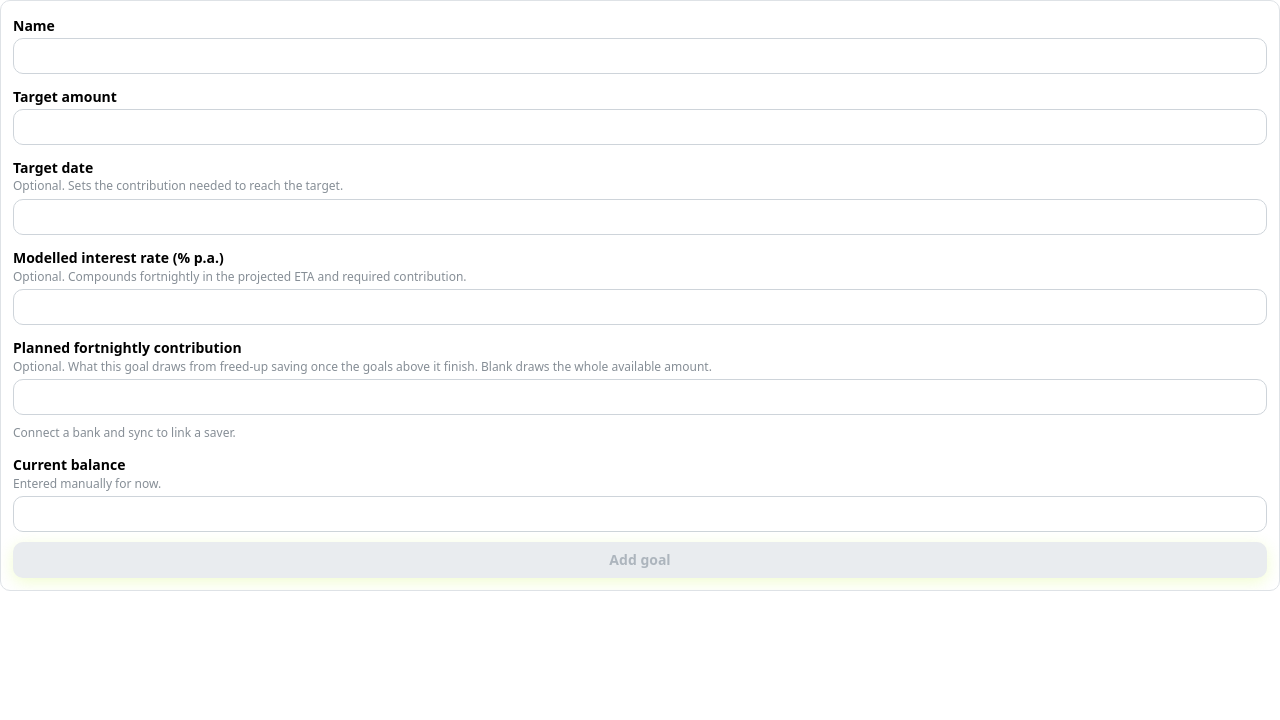
Test: GoalForm › surfaces an error and re-enables submit when saving fails
The width and height of the screenshot is (1280, 720).
Type "Emergency fund" into the field labelled "Name" at (640, 56), box 13,38 -> 1267,74
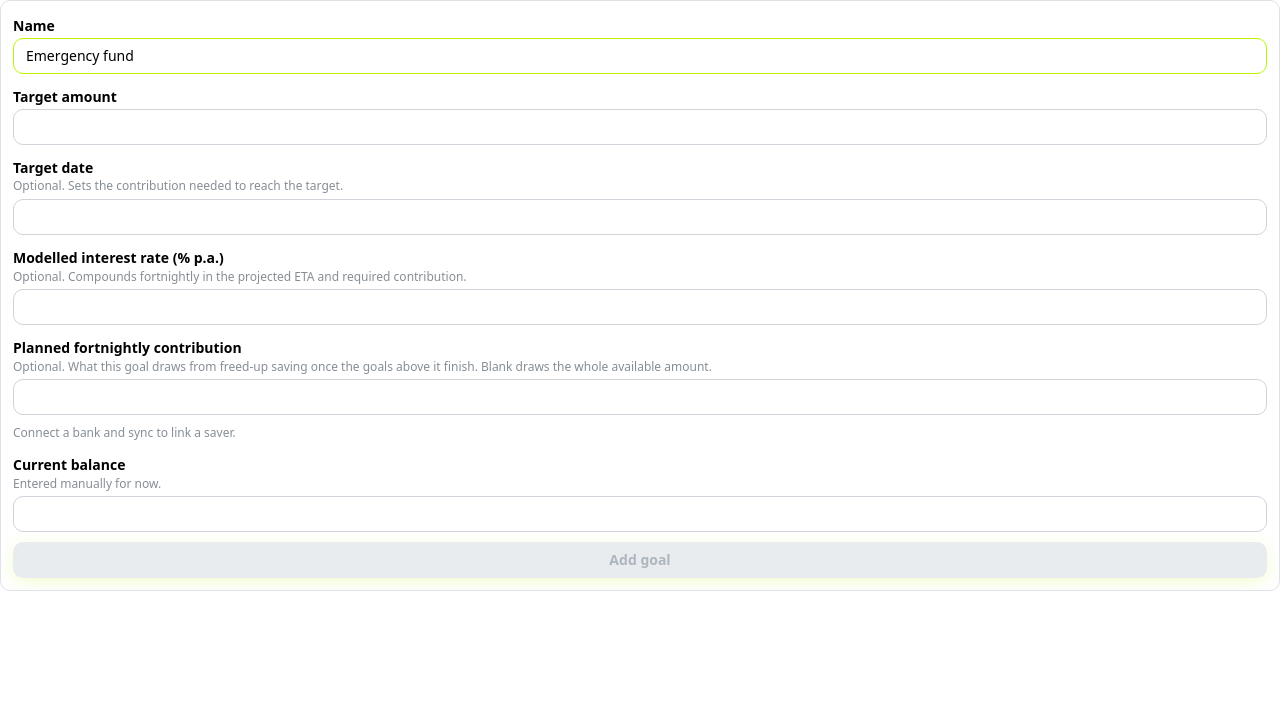
Type "10000" into the field labelled "Target amount" at (640, 127), box 13,109 -> 1267,145
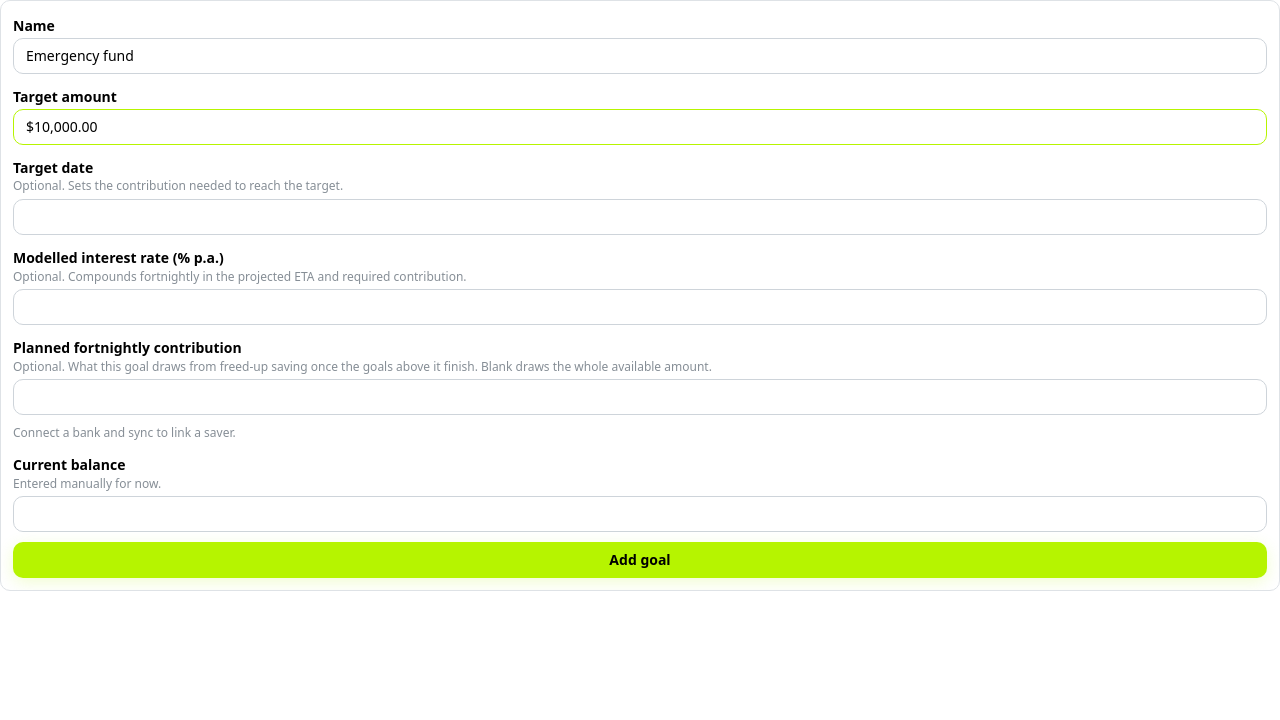
Click the button "Add goal" at (640, 560), box 13,542 -> 1267,578
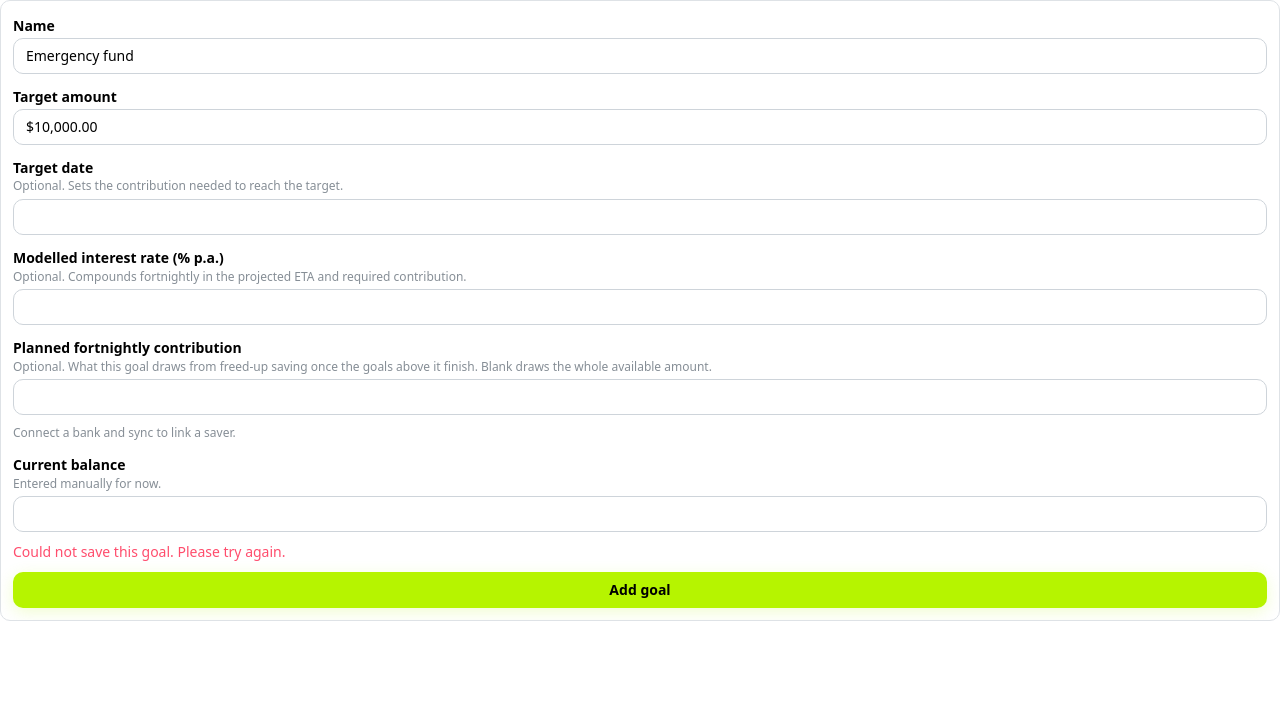
expect the button "Add goal" is enabled: met, box 13,572 -> 1267,608
expect the message shows "Could not save this goal": met, box 13,542 -> 286,561
